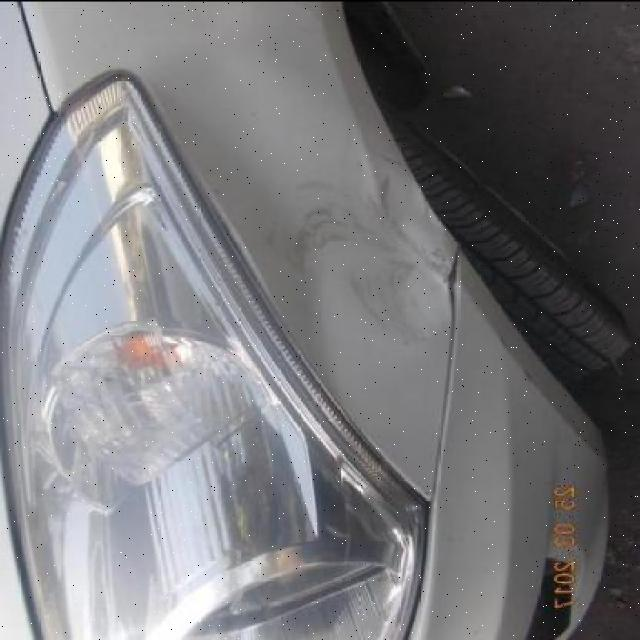damage: (266, 168, 462, 348)
